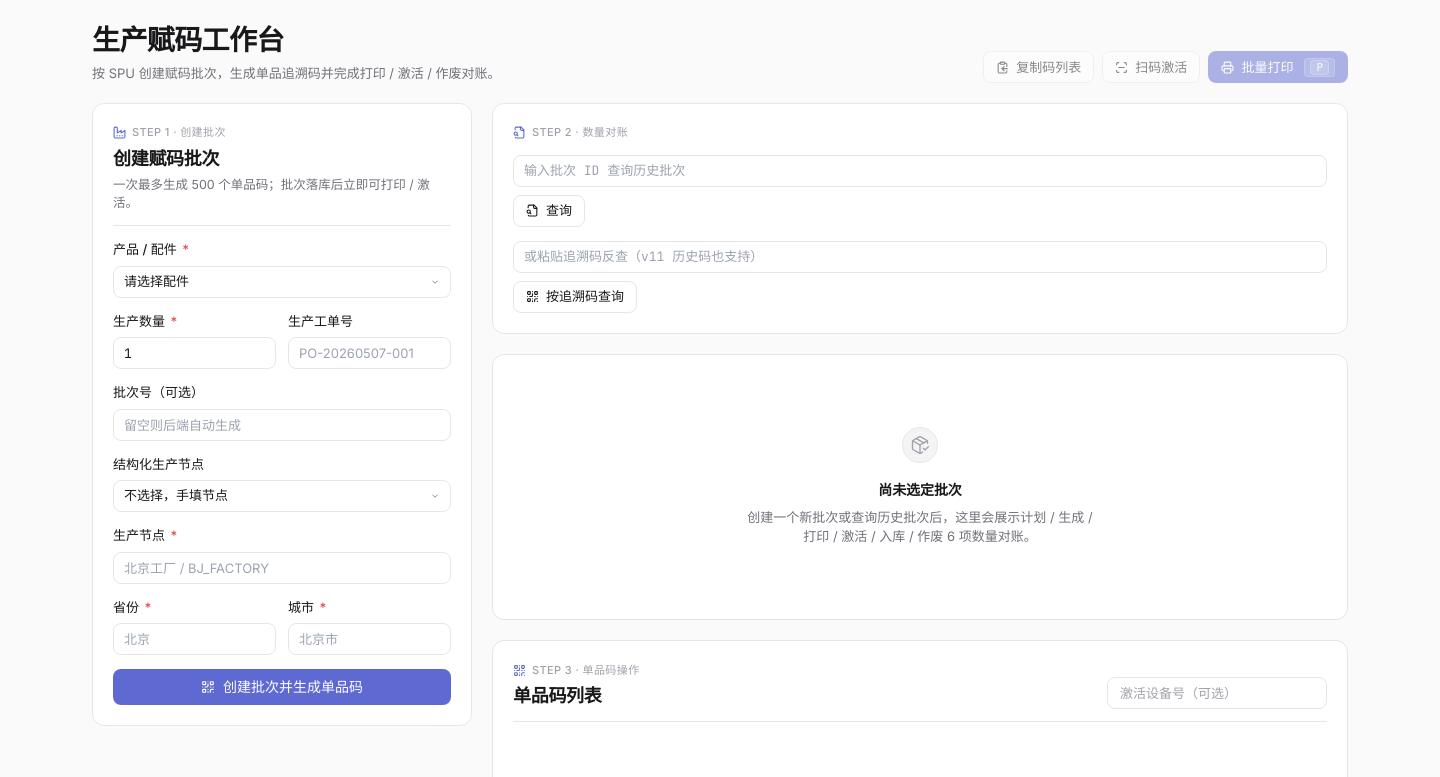
TraceAssignmentWorkbench › creates an assignment batch and loads generated codes for print/activation
Select "P-001 · 轴承" in the dropdown with test id "assignment-part-select" at (282, 282), box [113,266,451,298]
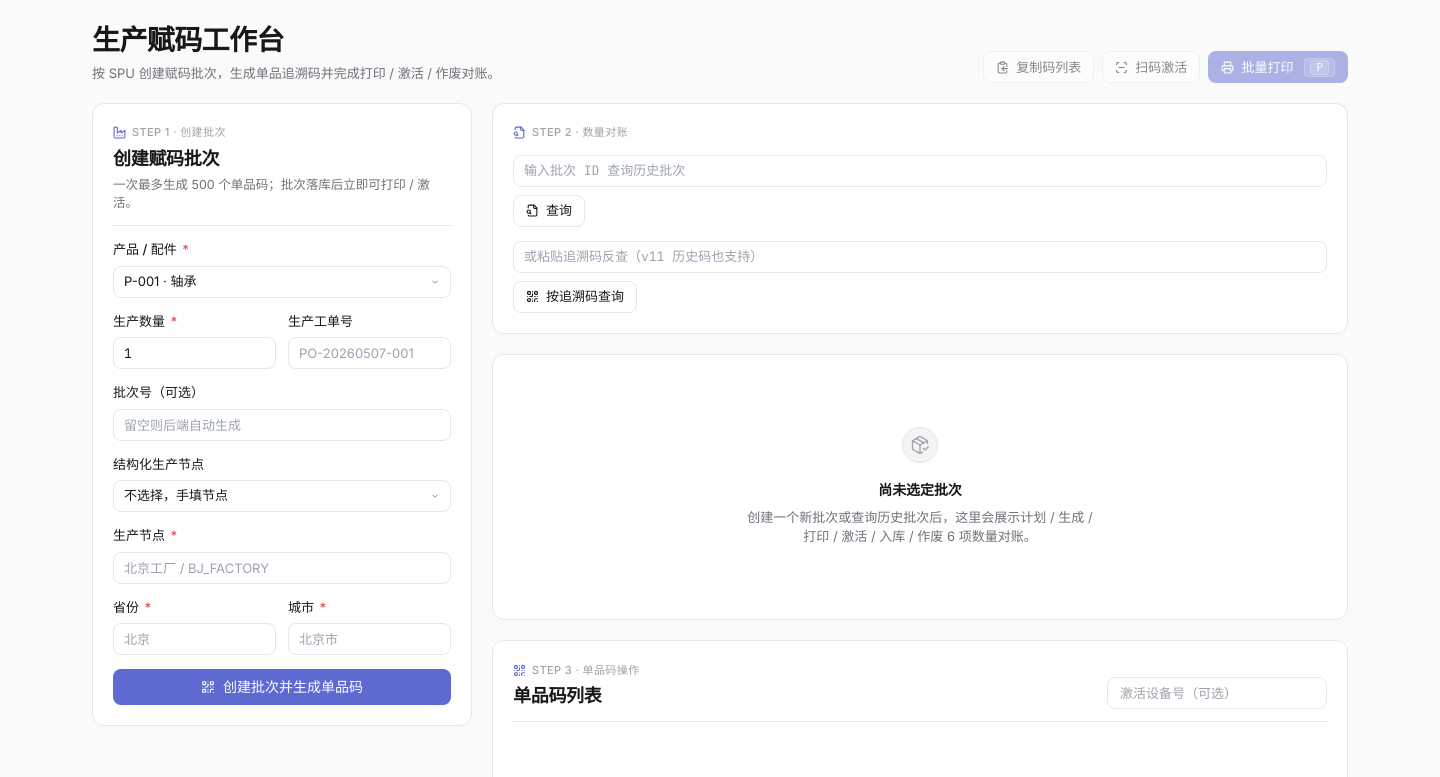
Replace the text in the number field with test id "assignment-quantity-input" with "2" at (194, 353), box [113,337,276,369]
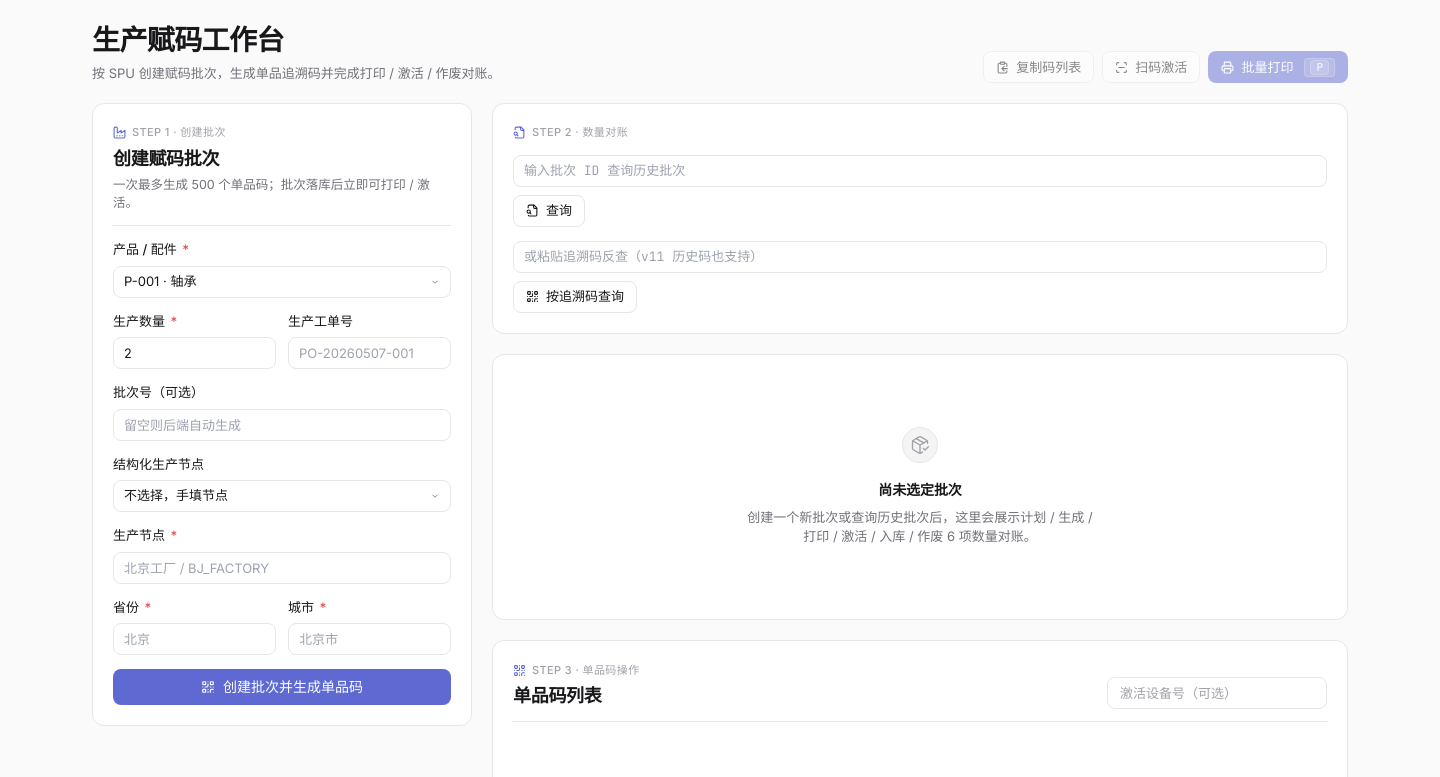
Select "BJ_FACTORY · 北京工厂" in the dropdown with test id "assignment-node-select" at (282, 496), box [113,480,451,512]
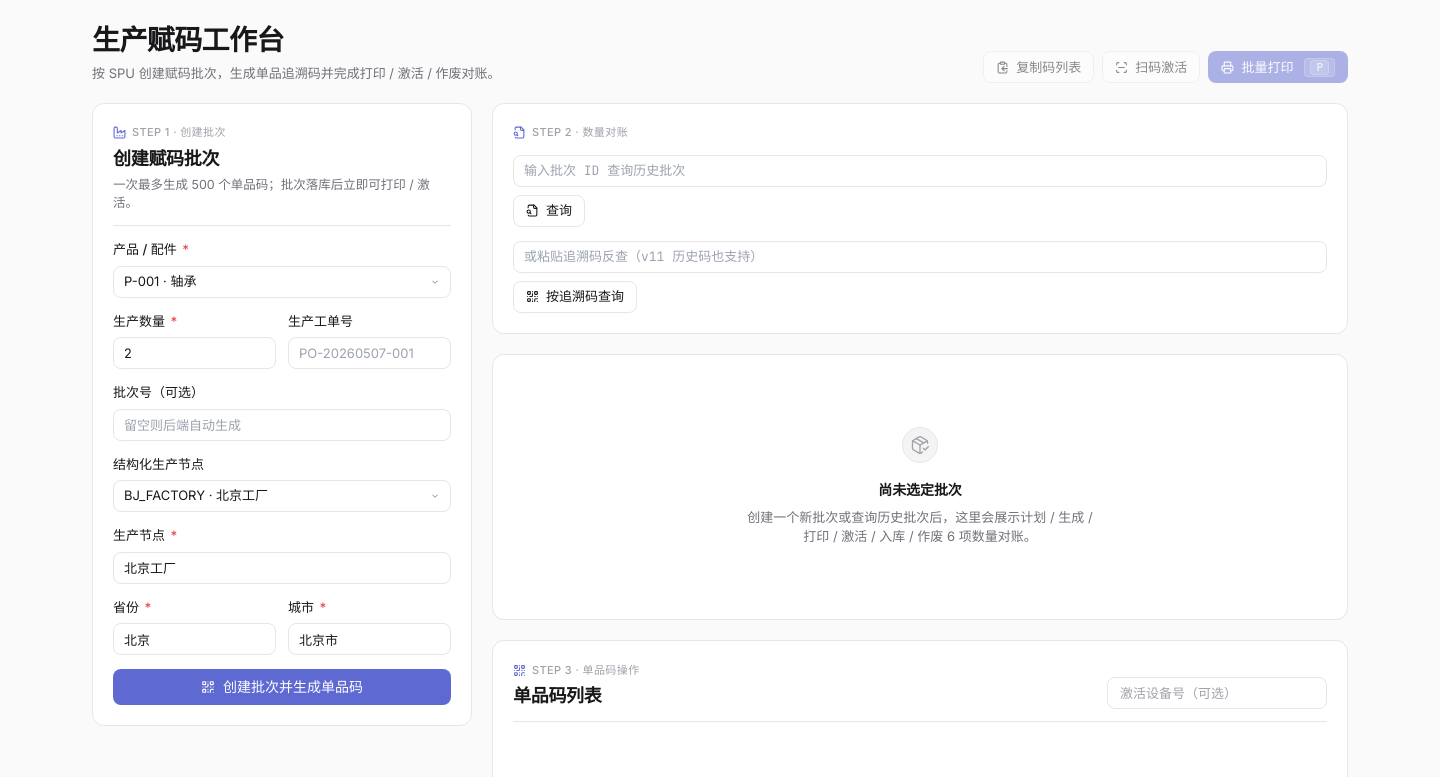
Submit the form with test id "assignment-create-form", box [92,103,472,726]
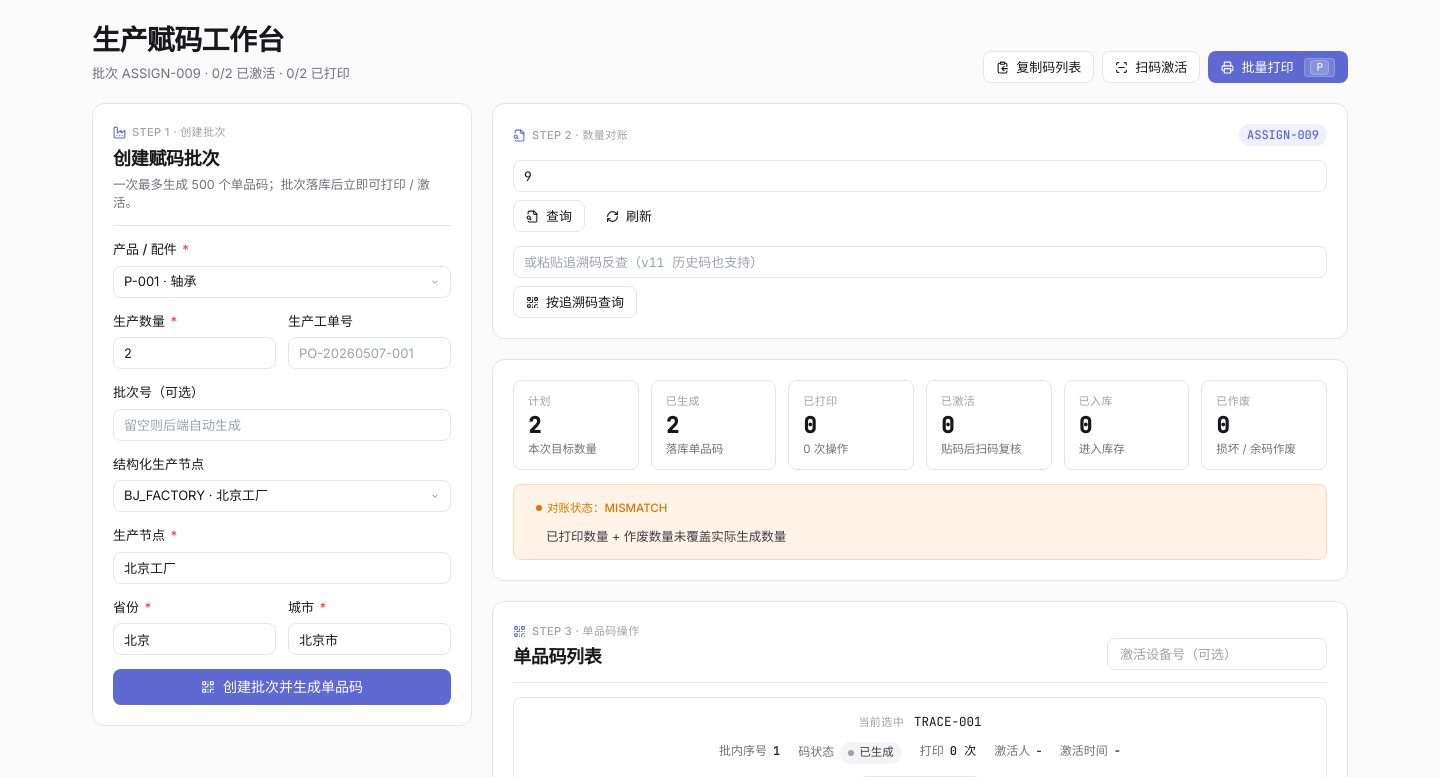
Check: the text "TRACE-001" is shown, box [914,716,982,728]
Check: the text "对账状态：MISMATCH" is shown, box [528,497,1312,519]
